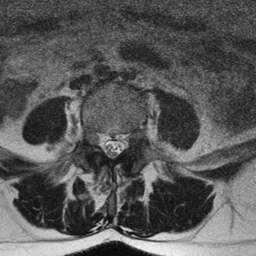CCS_normal: (108, 127, 117, 165)
LFS_normal: (126, 121, 136, 155)
LLS_normal: (117, 125, 125, 160)
RFS_normal: (92, 121, 101, 154)
RLS_normal: (100, 124, 108, 160)
